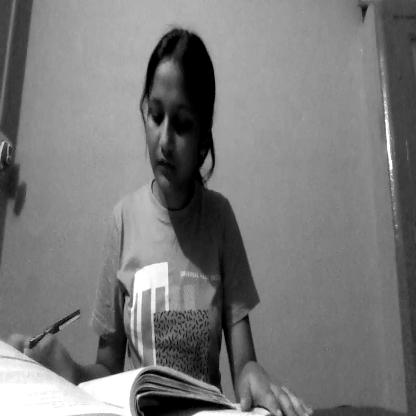Normal: (138, 29, 222, 209)
